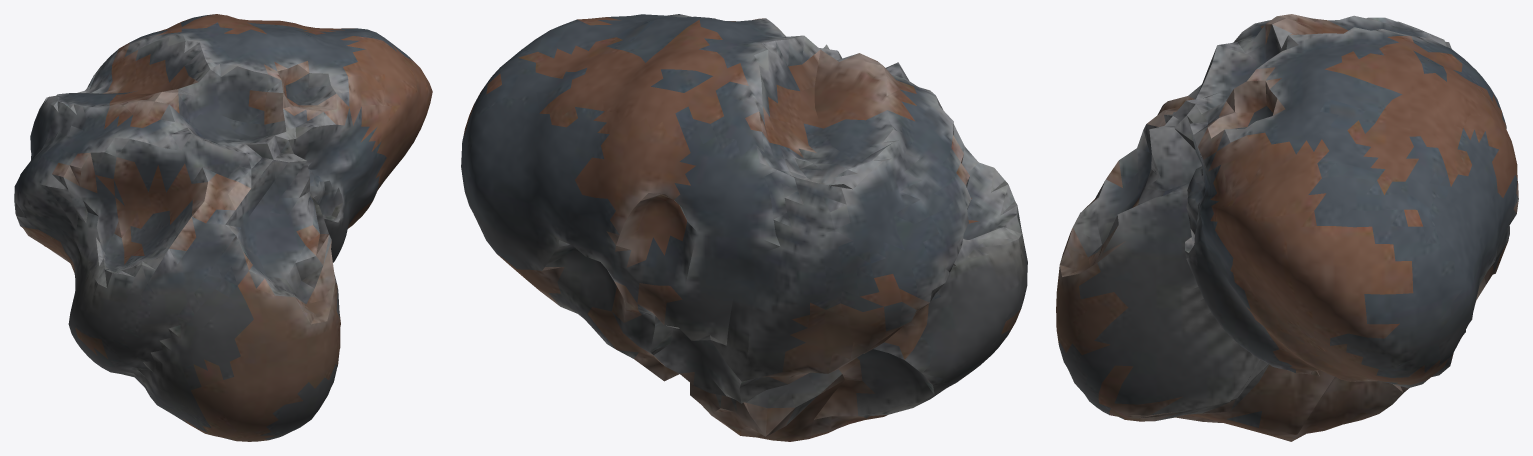
File: medium-metallic-asteroid.glb
The picture shows the model from 3 angles, left to right: view 1: azimuth 30°, elevation 25°; view 2: azimuth 150°, elevation 25°; view 3: azimuth 270°, elevation 25°; orthographic projection. The views are drawn at different scales.
Parts seen in each view (by area): view 1: body; view 2: body; view 3: body.
Boxes of the visible parts, x1,y1,x2,y2 form: body: (14, 14, 432, 441); body: (461, 14, 1027, 441); body: (1056, 14, 1518, 441).
Size of the model in its own units: 3.26 by 2.64 by 2.71.
1 material, 1 textured.
